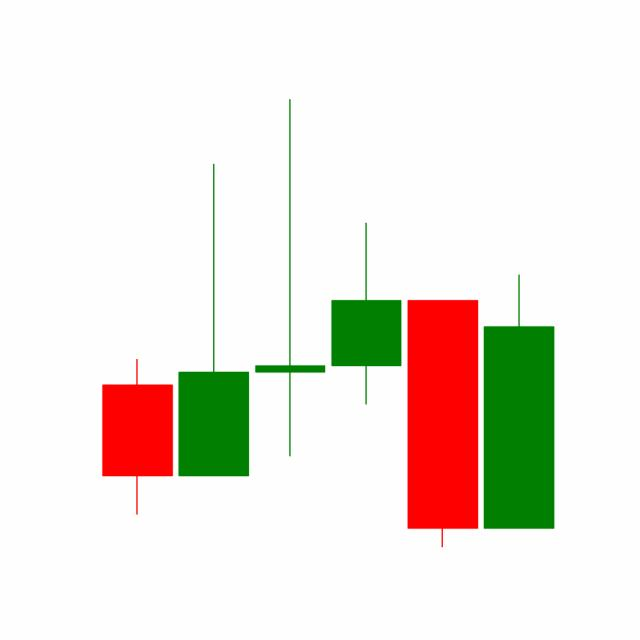Marubozu: (403, 297, 481, 550)
